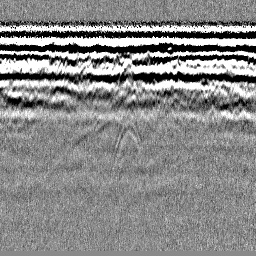cavity: (117, 57, 137, 85)
